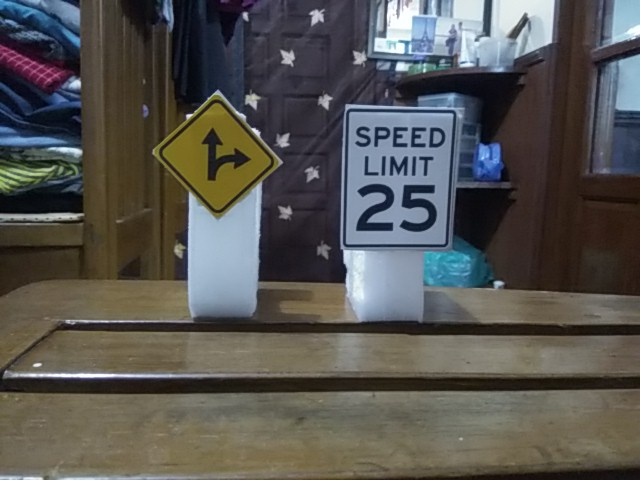Speed Limit 25: (343, 105, 458, 250)
Straight Or Right Sign: (156, 97, 279, 215)
